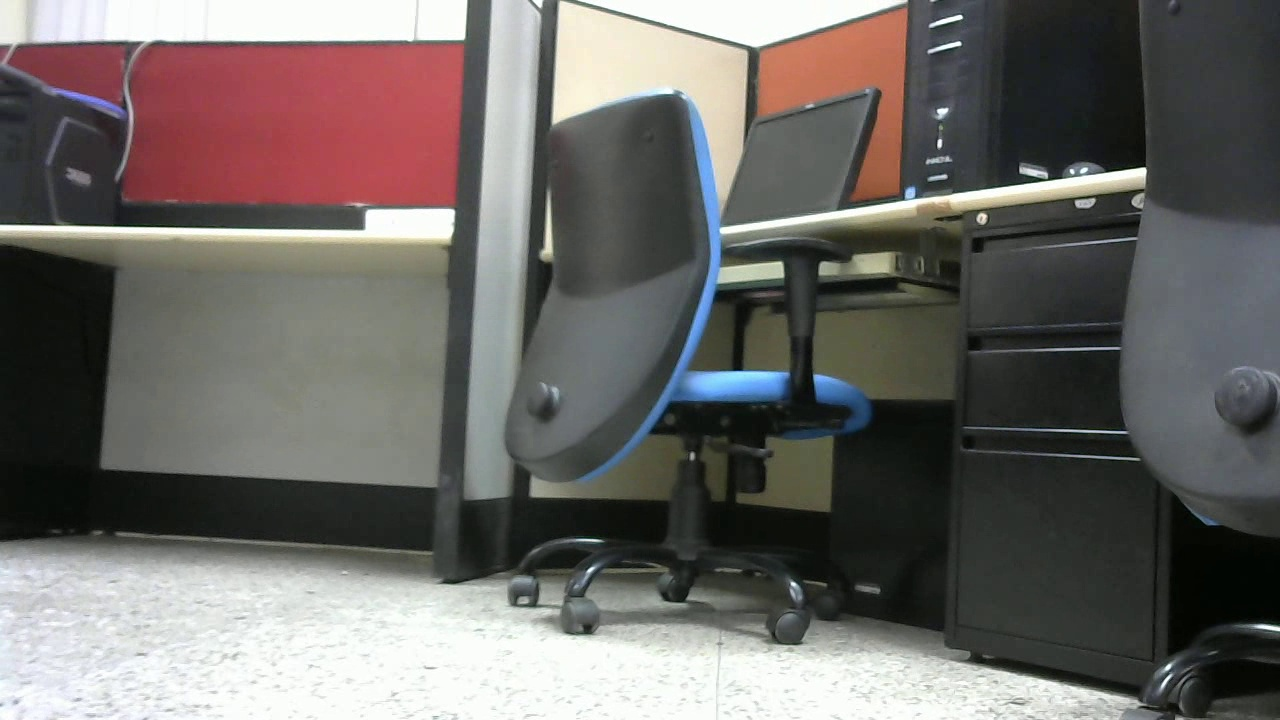chair: (509, 91, 874, 641)
